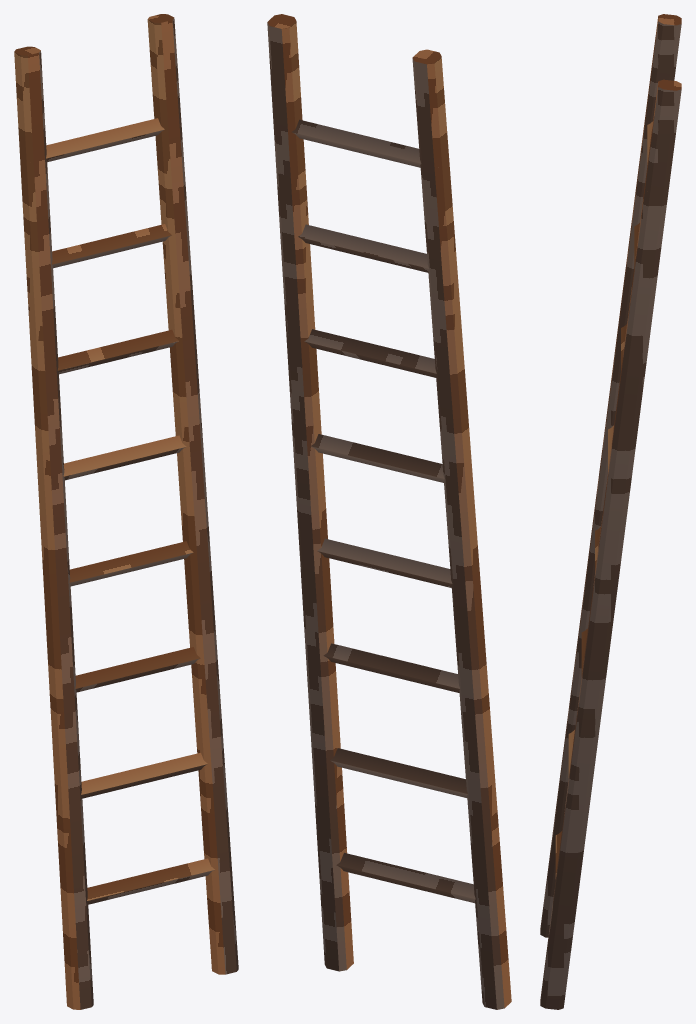
The model's file is wmine.ladder.glb.
The picture shows the model from 3 angles, left to right: view 1: azimuth 30°, elevation 25°; view 2: azimuth 150°, elevation 25°; view 3: azimuth 270°, elevation 25°; orthographic projection. The views are drawn at different scales.
Parts seen in each view (by area): view 1: kit_poles, kit_rungs; view 2: kit_poles, kit_rungs; view 3: kit_poles, kit_rungs.
Boxes of the visible parts, box(x1,y1,x2,y2) form: kit_poles: box(14, 14, 238, 1009); kit_rungs: box(30, 118, 214, 904); kit_poles: box(267, 14, 511, 1009); kit_rungs: box(274, 119, 475, 903); kit_poles: box(540, 14, 681, 1009); kit_rungs: box(555, 121, 666, 878).
Size of the model in its own units: 0.57 by 3.01 by 0.4196.
2 materials, 2 textured.
